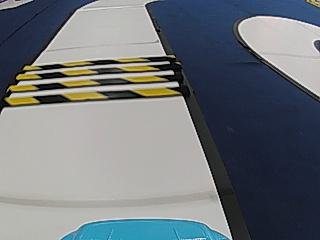bump: (1, 51, 189, 113)
